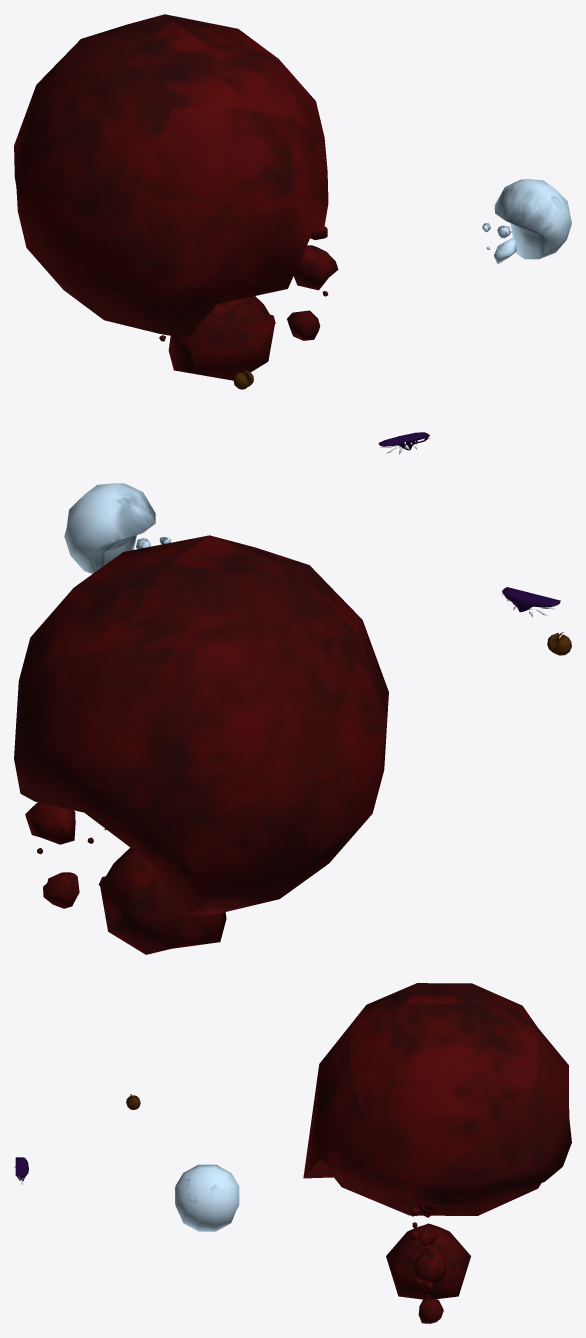
The model's file is escenario_object_hassle_zurro_2.fbx.
3 renders of one model, top to bottom at view 1: azimuth 30°, elevation 25°; view 2: azimuth 150°, elevation 25°; view 3: azimuth 270°, elevation 25°, orthographic. The views are drawn at different scales.
Visible parts, largest first — view 1: Planeta, Planeta 2; view 2: Planeta, Planeta 2, Escenario; view 3: Planeta, Planeta 2.
Part boxes in pixels (bbox=[...]): Planeta: bbox=[14, 14, 338, 380]; Planeta 2: bbox=[482, 179, 571, 263]; Planeta: bbox=[14, 535, 388, 954]; Planeta 2: bbox=[64, 483, 171, 573]; Escenario: bbox=[502, 587, 560, 612]; Planeta: bbox=[303, 983, 571, 1323]; Planeta 2: bbox=[175, 1164, 239, 1231].
Size of the model in its own units: 32670 by 27777 by 49044.
Materials: 4 (4 with a texture image).
